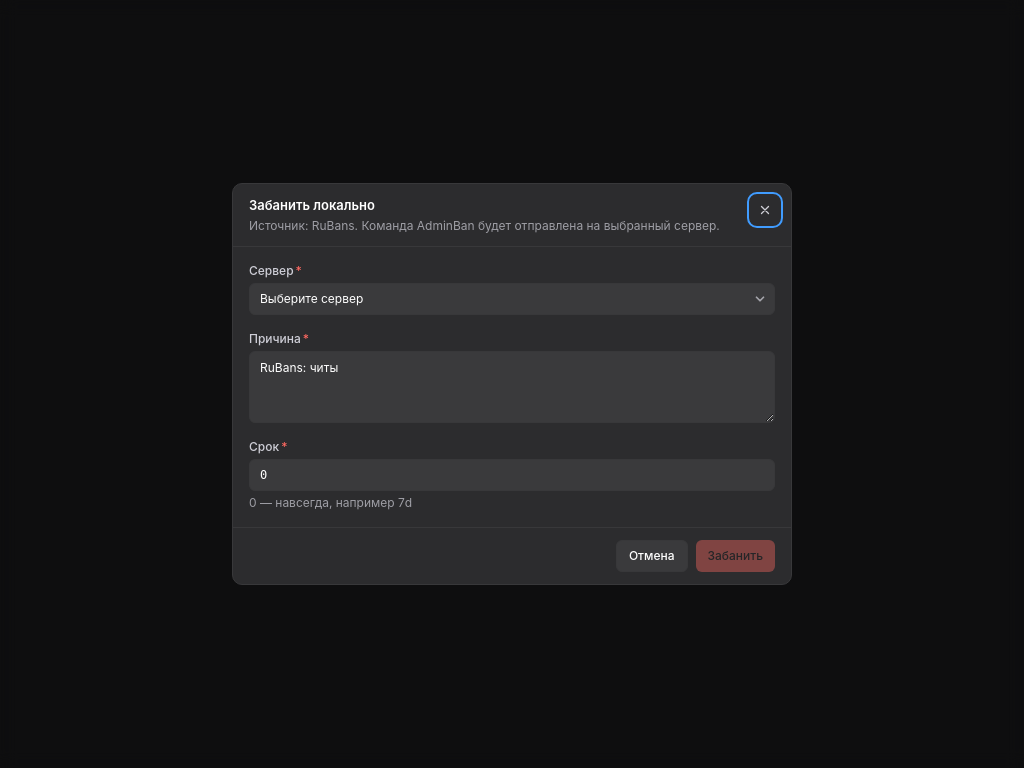
Test case: ExternalBanLocalBanModal › shows a Russian message for a known local-ban error code (#443)
Select "RU #1" in the dropdown labelled "Сервер": x=512, y=299 x1=249 y1=283 x2=775 y2=315
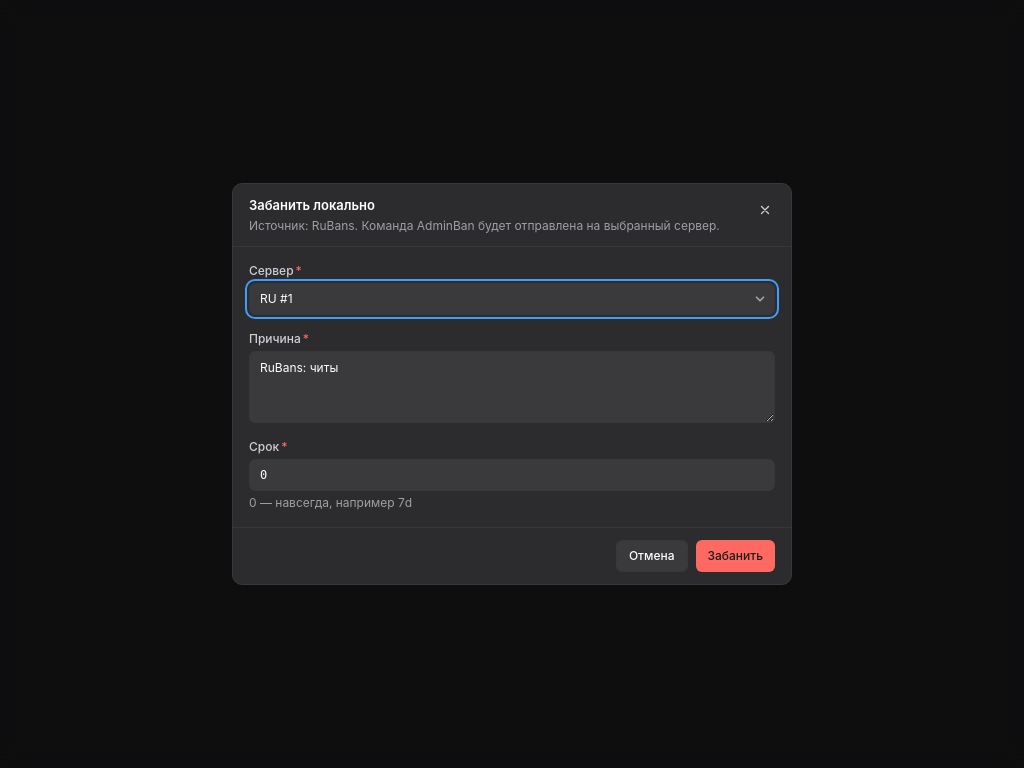
Click the button "Забанить": x=735, y=556 x1=696 y1=540 x2=775 y2=572
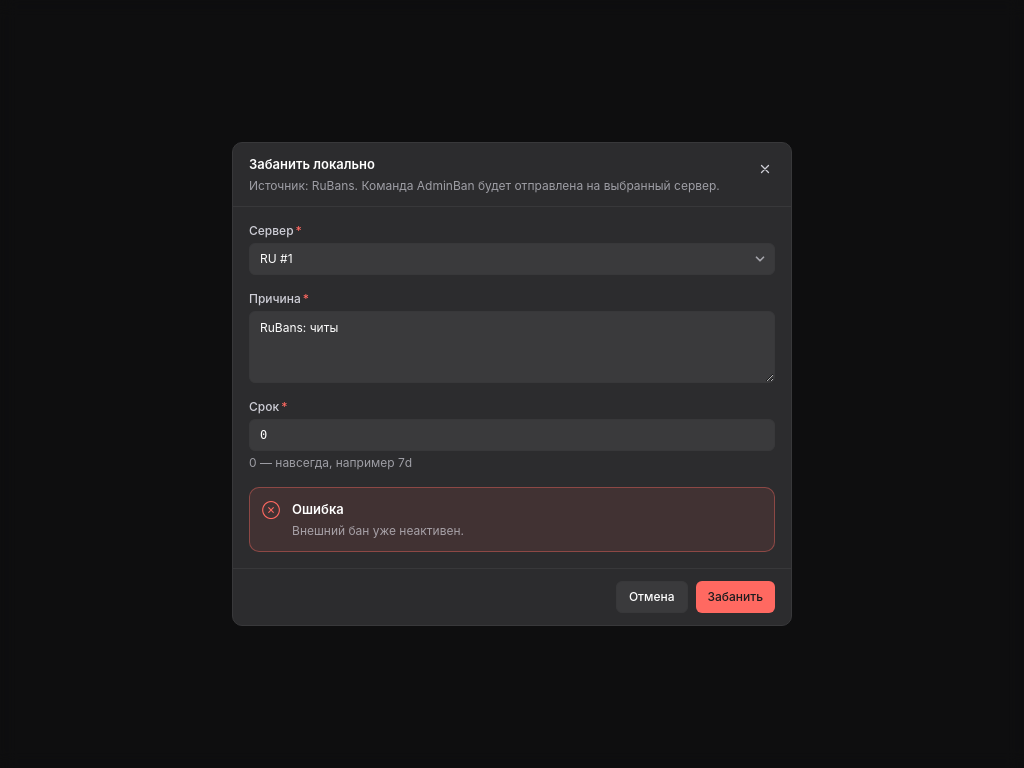
expect the text "Внешний бан уже неактивен." is shown: met, box x1=292 y1=523 x2=464 y2=538
